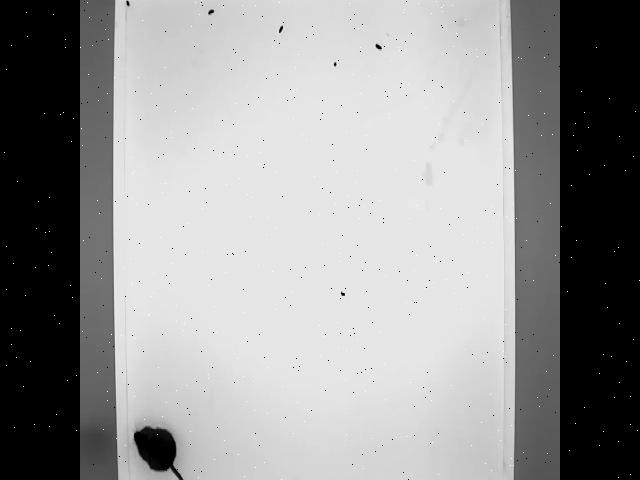Tikus: (128, 395, 196, 480)
